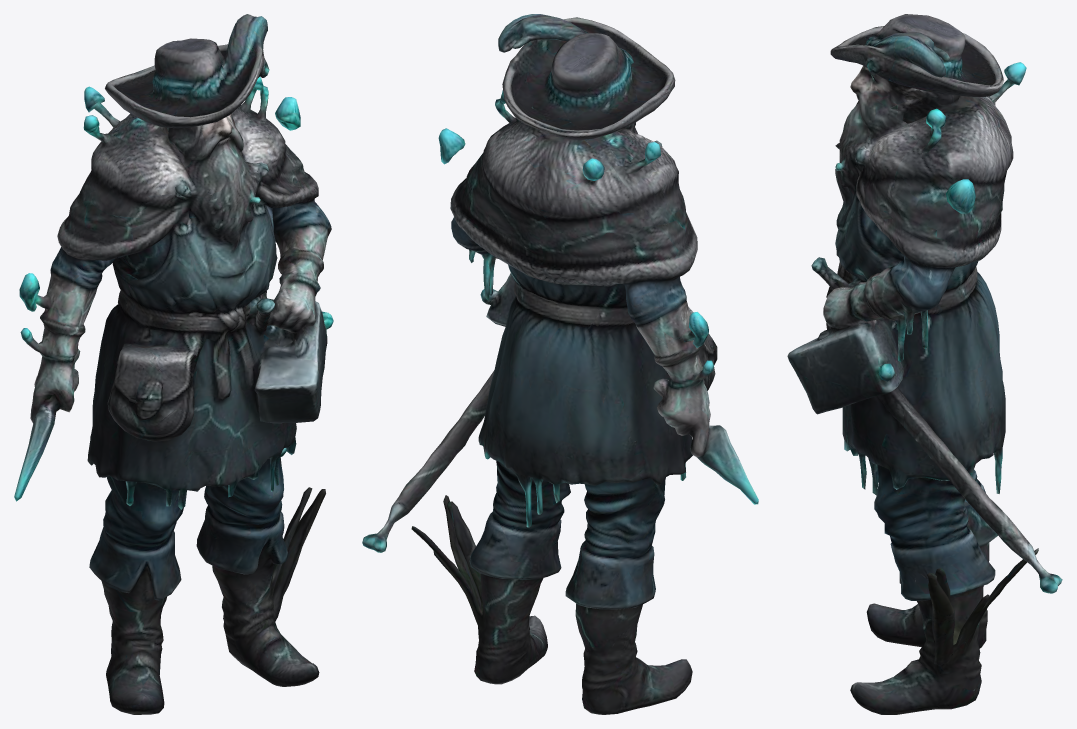
The model's file is Dwarf_Mason.glb.
3 views of the same model, side by side, from view 1: azimuth 30°, elevation 25°; view 2: azimuth 150°, elevation 25°; view 3: azimuth 270°, elevation 25° (orthographic).
Bounding box in the file's own units: 1.01 × 1.91 × 0.7201.
Materials: 1 (1 with a texture image).
